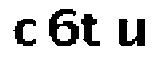6: (47, 6, 81, 49)
c: (11, 17, 38, 50)
t: (80, 11, 102, 48)
u: (116, 15, 149, 52)
